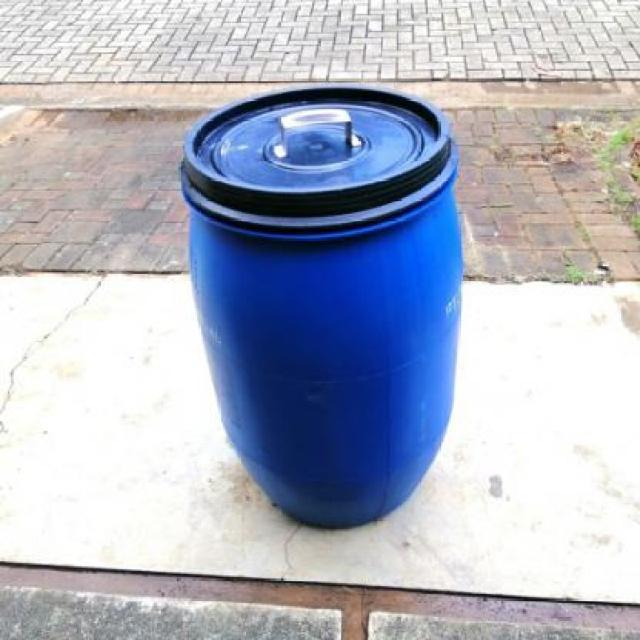garbage container: (174, 79, 473, 547)
